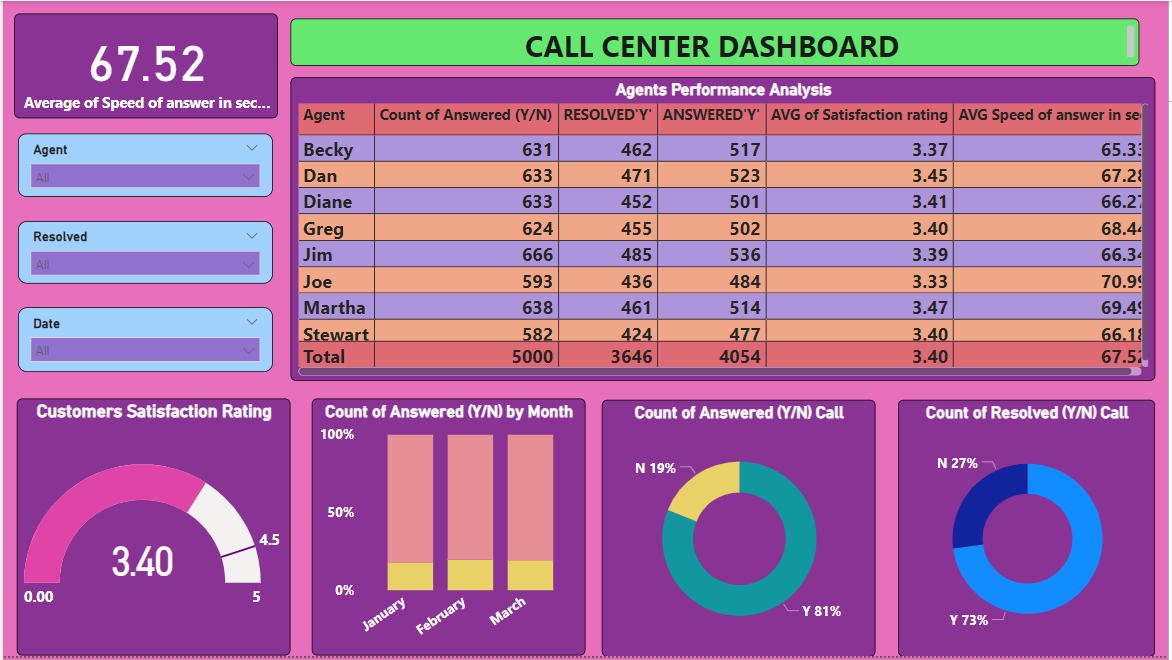

This screenshot's page, from the dashboard's own definition file:
{"tool":"powerbi","page":{"name":"Call Center Dashboard","canvas":[1280,720],"ordinal":0},"visuals":[{"type":"slicer","fields":{"Values":["Sheet1.Agent"]},"box":[16.5,145.5,279.9,70],"z":0},{"type":"slicer","fields":{"Values":["Sheet1.Resolved"]},"box":[16.5,241.5,279.9,68.6],"z":1000},{"type":"slicer","fields":{"Values":["Sheet1.Date"]},"box":[16.5,336.2,279.9,71.4],"z":2000},{"type":"gauge","title":"Customers Satisfaction Rating","fields":{"Y":["Sheet1.Satisfaction rating"],"MaxValue":["Sheet1.Satisfaction rating"]},"box":[15.1,436.4,300.5,282.7],"z":3000},{"type":"donutChart","title":"Count of Answered (Y/N) Call","fields":{"Category":["Sheet1.Answered (Y/N)"],"Y":["Sheet1.Answered (Y/N)"]},"box":[658.7,437.7,300.5,282.7],"z":4000},{"type":"donutChart","title":"Count of Resolved (Y/N) Call","fields":{"Category":["Sheet1.Resolved"],"Y":["Sheet1.Resolved"]},"box":[983.9,437.7,282.7,282.7],"z":5000},{"type":"card","fields":{"Values":["Sheet1.Speed of answer in seconds"]},"box":[12.3,13.7,289.5,115.3],"z":6000},{"type":"hundredPercentStackedColumnChart","title":"Count of Answered (Y/N) by Month ","fields":{"Category":["Sheet1.Date.Variation.Date Hierarchy.Month"],"Y":["Sheet1.Answered (Y/N)"],"Series":["Sheet1.Answered (Y/N)"]},"box":[338.9,436.4,300.5,282.7],"z":7000},{"type":"tableEx","title":"Agents Performance Analysis","fields":{"Values":["Sheet1.Agent","Sheet1.Answered (Y/N)","Sheet1.RESOLVED'Y'","Sheet1.ANSWERED'Y'","Sheet1.Satisfaction rating","Sheet1.Speed of answer in seconds"]},"box":[315.9,83.8,950.6,333.8],"z":8000},{"type":"textbox","box":[315.6,19.2,933.1,52.1],"z":9000}]}

Visuals, with their boxes in screenshot pixels (x1, y1, x2, y2), scaled from the page's 1280x720 canvas onto the 1172x660 screenshot:
slicer - Sheet1.Agent: l=15, t=133, r=271, b=198
slicer - Sheet1.Resolved: l=15, t=221, r=271, b=284
slicer - Sheet1.Date: l=15, t=308, r=271, b=374
"Customers Satisfaction Rating" gauge: l=14, t=400, r=289, b=659
"Count of Answered (Y/N) Call" donutChart: l=603, t=401, r=878, b=659
"Count of Resolved (Y/N) Call" donutChart: l=901, t=401, r=1160, b=659
card - Sheet1.Speed of answer in seconds: l=11, t=13, r=276, b=118
"Count of Answered (Y/N) by Month " hundredPercentStackedColumnChart: l=310, t=400, r=585, b=659
"Agents Performance Analysis" tableEx: l=289, t=77, r=1160, b=383
textbox: l=289, t=18, r=1143, b=65
